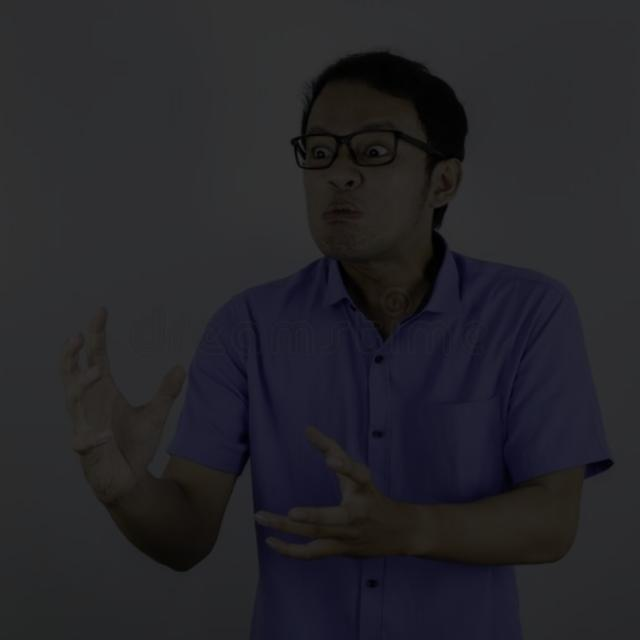Angry: (190, 52, 538, 320)
